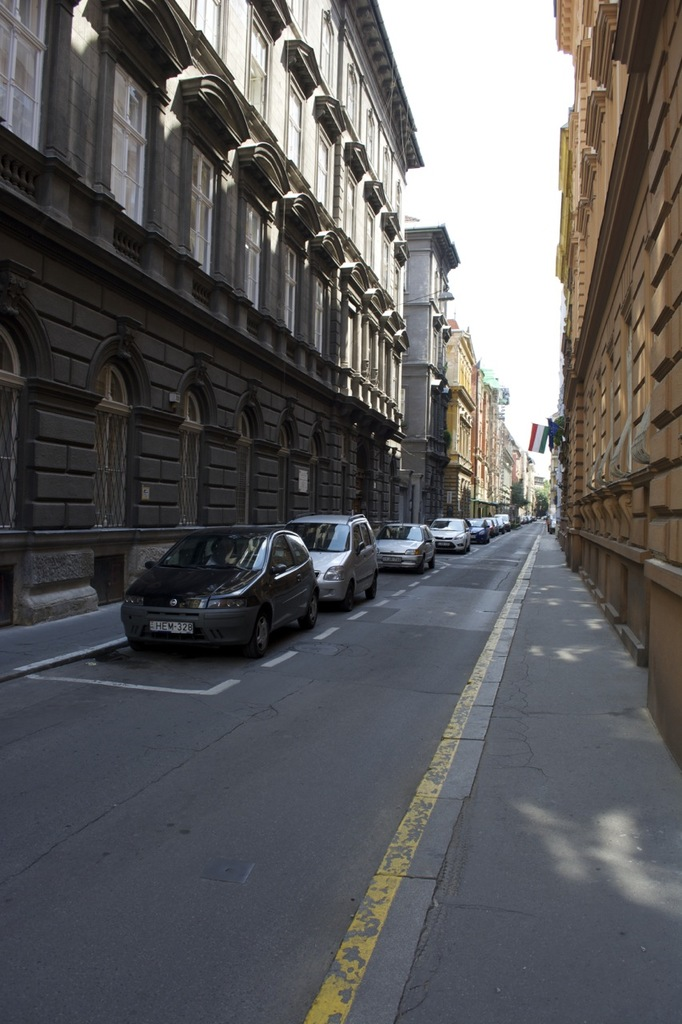mobil: (113, 522, 330, 662), (265, 510, 393, 605), (362, 507, 441, 581), (425, 510, 479, 556)
